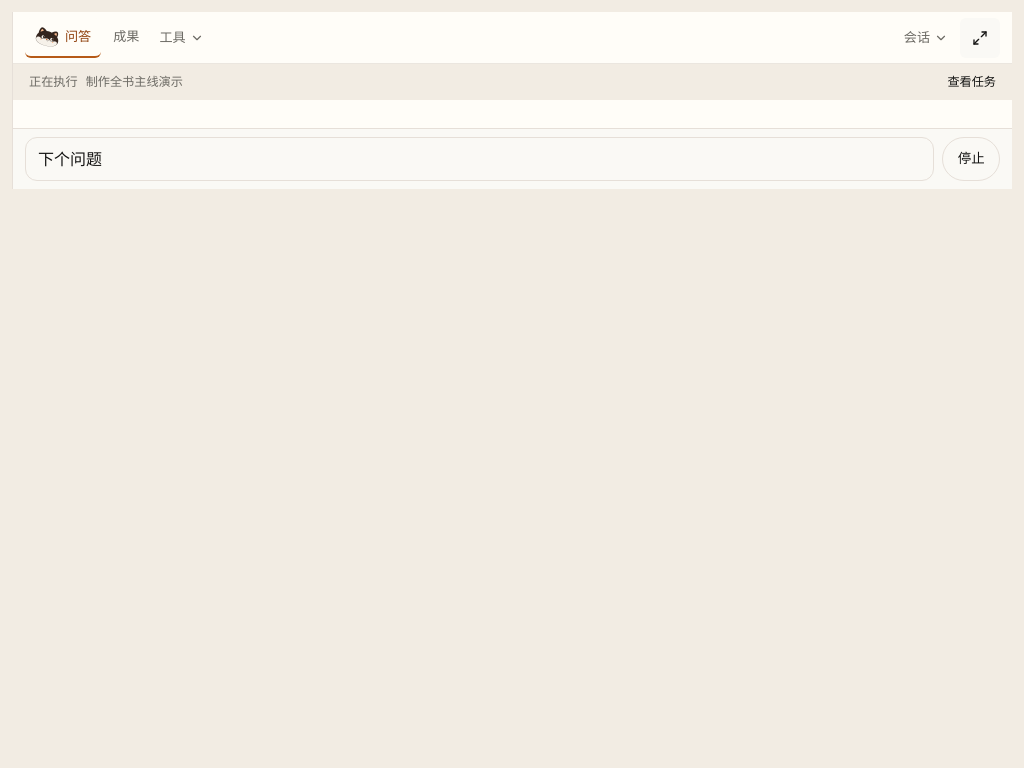
Test: RightRail Resident task controls › keeps running tasks collapsed and exposes only the stop action beside the draft
Expected: the button "停止" is shown, left=942, top=137, right=1000, bottom=181
Click the button with class "task-summary-toggle": (53, 82) left=13, top=64, right=1012, bottom=100
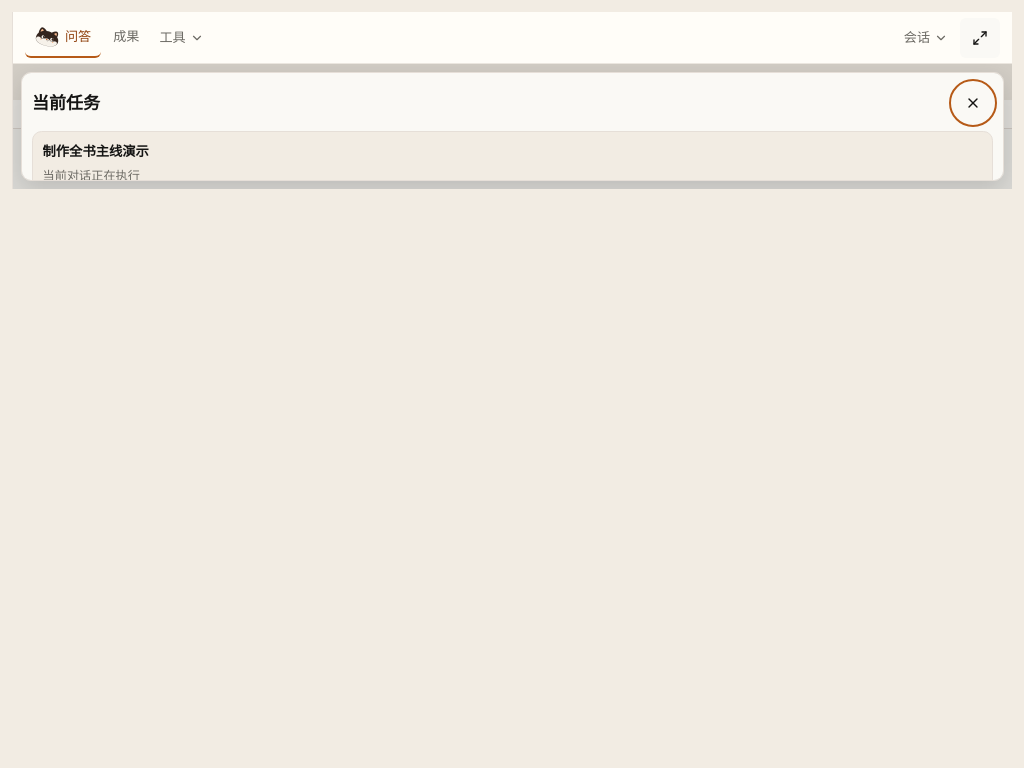
Now the element with class "goal-card" shows "正在执行", box left=43, top=168, right=140, bottom=181
